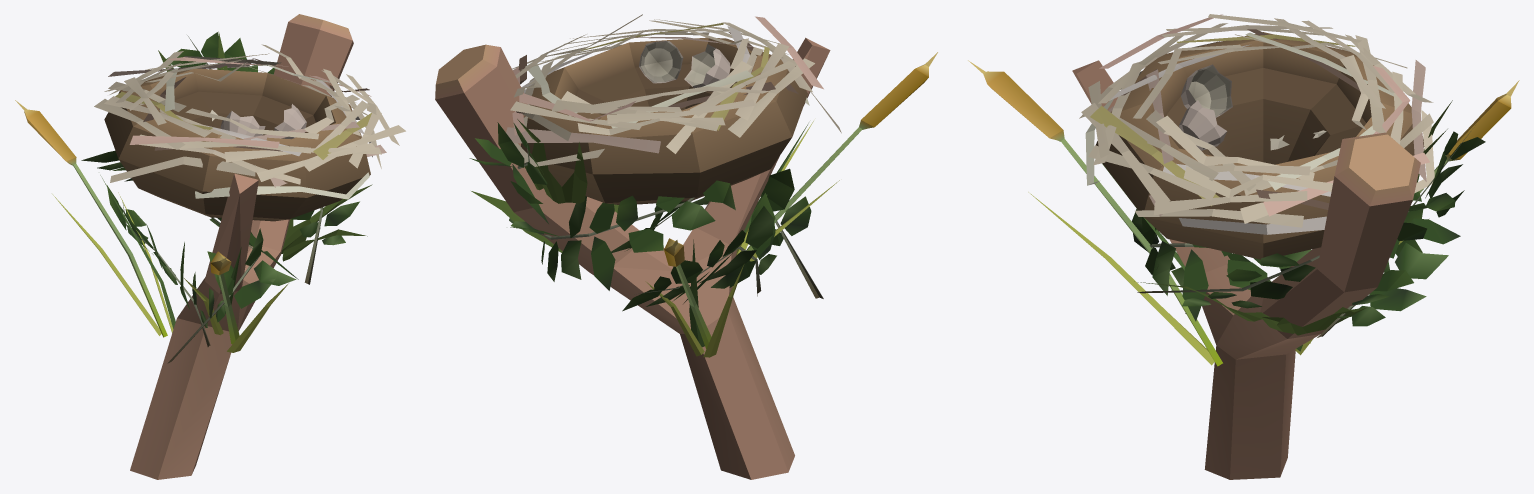
3 views of the same model, side by side, from view 1: azimuth 30°, elevation 25°; view 2: azimuth 150°, elevation 25°; view 3: azimuth 270°, elevation 25° (orthographic). The views are drawn at different scales.
Visible parts, largest first — view 1: nestStage_6; view 2: nestStage_6; view 3: nestStage_6.
Boxes of the visible parts, bbox=[...] form: nestStage_6: bbox=[15, 14, 405, 479]; nestStage_6: bbox=[435, 14, 937, 479]; nestStage_6: bbox=[968, 14, 1519, 479].
Bounding box in the file's own units: 1.82 × 2.08 × 2.32.
